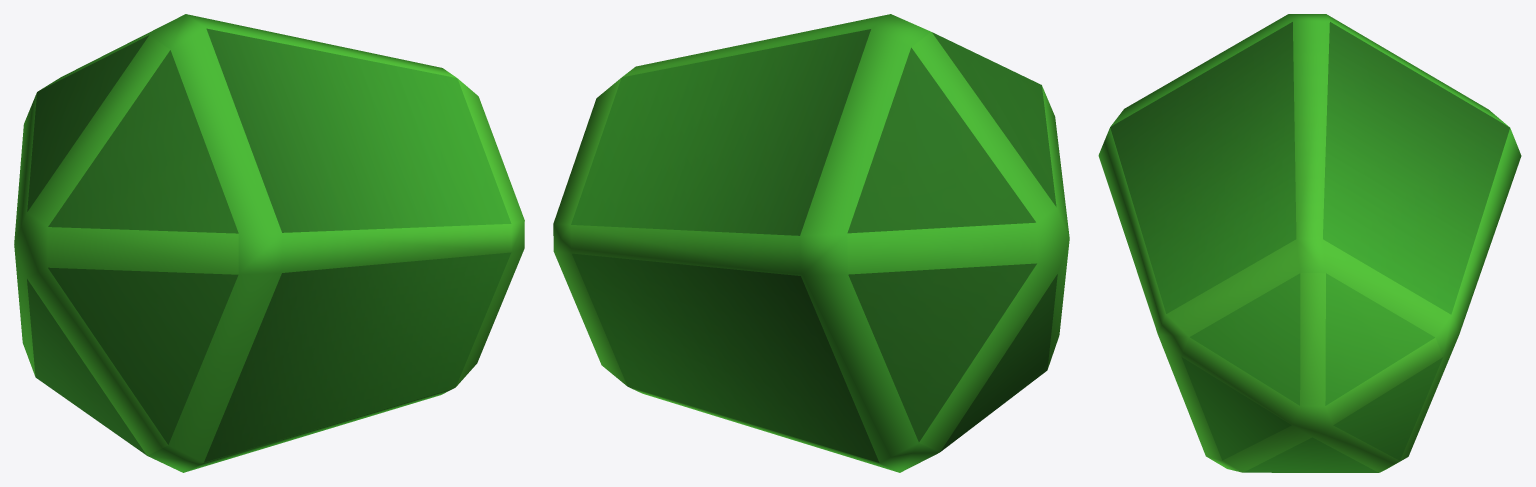
The model's file is christal_emerald_8.fbx.
3 views of the same model, side by side, from view 1: azimuth 30°, elevation 25°; view 2: azimuth 150°, elevation 25°; view 3: azimuth 270°, elevation 25° (orthographic). The views are drawn at different scales.
Parts seen in each view (by area): view 1: christal_emerald_8; view 2: christal_emerald_8; view 3: christal_emerald_8.
Part boxes in pixels (bbox=[...]): christal_emerald_8: bbox=[14, 14, 524, 472]; christal_emerald_8: bbox=[553, 14, 1069, 472]; christal_emerald_8: bbox=[1098, 14, 1521, 472].
Size of the model in its own units: 34.31 by 26.15 by 27.94.
Materials: 1 (1 with a texture image).
